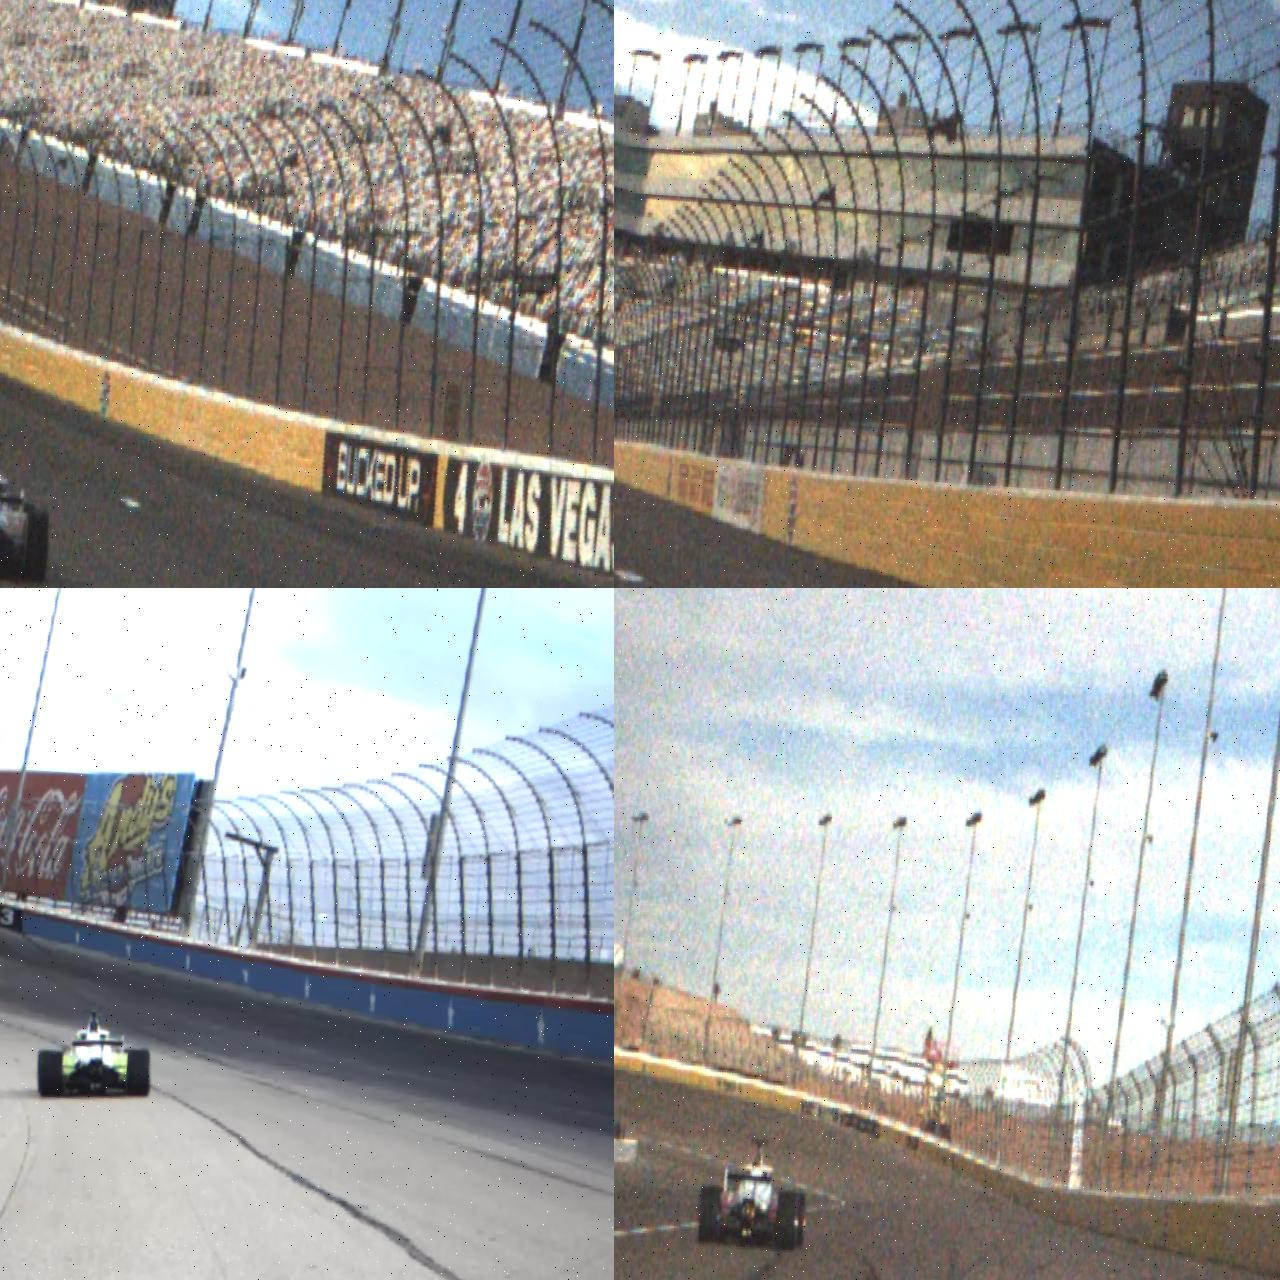AV: (696, 1133, 811, 1252), (35, 1006, 156, 1105), (0, 437, 57, 587)
Wheel: (23, 511, 52, 586), (696, 1185, 723, 1246), (775, 1190, 798, 1250), (36, 1050, 64, 1098), (125, 1049, 152, 1098), (791, 1191, 806, 1246)
